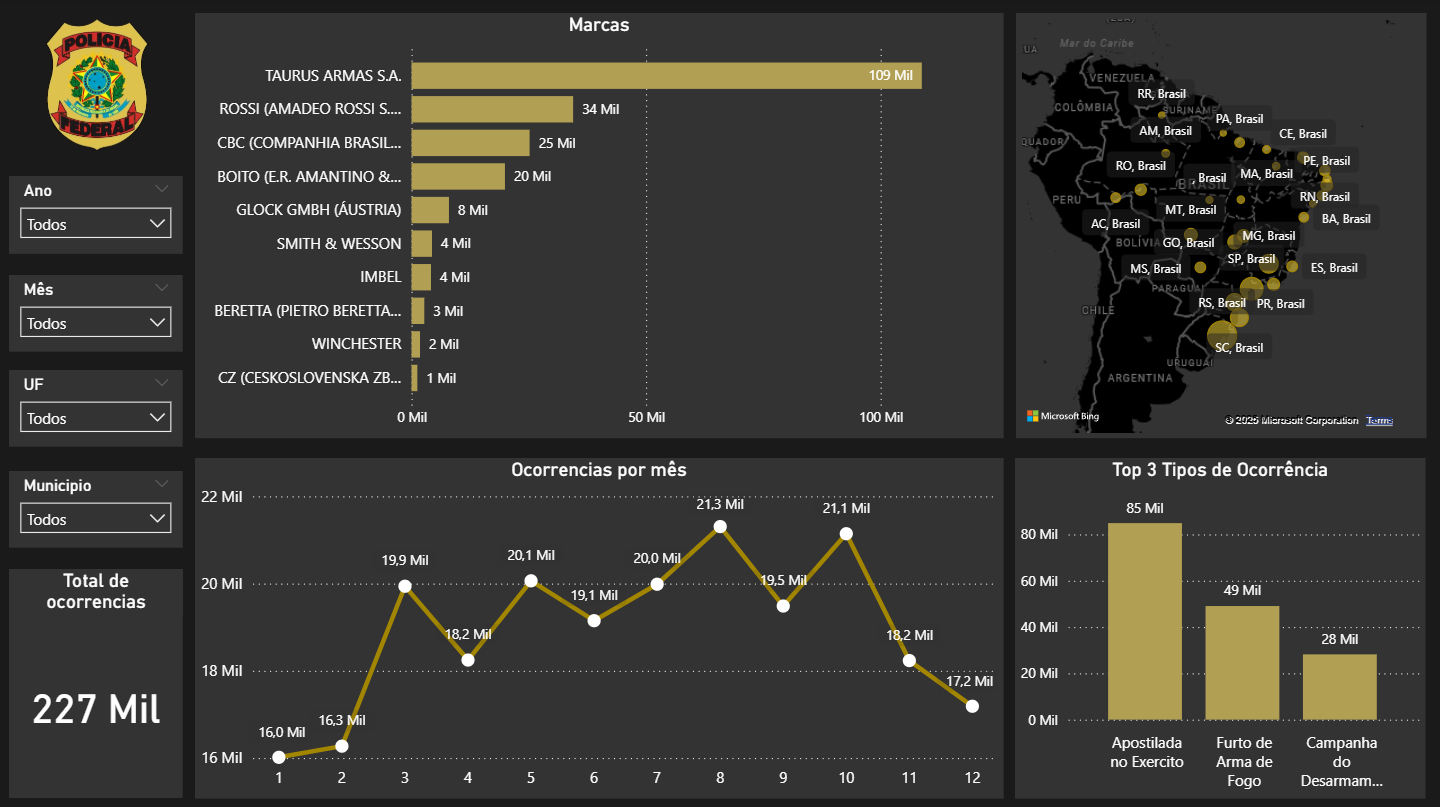

This screenshot's page, from the dashboard's own definition file:
{"tool":"powerbi","page":{"name":"Analise","canvas":[1280,720],"ordinal":0},"visuals":[{"type":"slicer","fields":{"Values":["OCORRENCIAS.MES"]},"box":[10,244.4,154.4,67.8],"z":0},{"type":"image","box":[21.1,12.2,132.2,126.7],"z":1000},{"type":"map","title":"Estados","fields":{"Category":["OCORRENCIAS.LocalizacaoCompleta","OCORRENCIAS.MUNICIPIO"],"Size":["Sum(OCORRENCIAS.TOTAL)"]},"box":[902.4,12.3,364.2,376.6],"z":2000},{"type":"slicer","fields":{"Values":["OCORRENCIAS.ANO"]},"box":[10,156.7,154.4,68.9],"z":3000},{"type":"lineChart","title":"Ocorrencias por mês","fields":{"Category":["OCORRENCIAS.MES"],"Y":["Sum(OCORRENCIAS.TOTAL)"]},"box":[174.4,406.7,716.7,302.2],"z":4000},{"type":"slicer","fields":{"Values":["OCORRENCIAS.UF"]},"box":[10,328.9,154.4,67.8],"z":5000},{"type":"slicer","fields":{"Values":["OCORRENCIAS.MUNICIPIO"]},"box":[10,418.9,154.4,67.8],"z":6000},{"type":"card","title":"Total de ocorrencias","fields":{"Values":["Sum(OCORRENCIAS.TOTAL)"]},"box":[10,505.6,154.4,203.3],"z":8000},{"type":"clusteredColumnChart","title":"Top 3 Tipos de Ocorrência","fields":{"Y":["Sum(OCORRENCIAS.TOTAL)"],"Category":["OCORRENCIAS.TIPO_OCORRENCIA"]},"box":[902,407,364,302],"z":9000},{"type":"clusteredBarChart","title":"Marcas","fields":{"Category":["OCORRENCIAS.MARCA","OCORRENCIAS.ESPECIE_ARMA"],"Y":["Sum(OCORRENCIAS.TOTAL)"]},"box":[174.4,12.2,716.7,376.7],"z":9002}]}

Visuals, with their boxes in screenshot pixels (x1, y1, x2, y2), scaled from the page's 1280x720 canvas onto the 1440x807 screenshot:
slicer - OCORRENCIAS.MES: 11/274/185/350
image: 24/14/172/156
"Estados" map: 1015/14/1425/436
slicer - OCORRENCIAS.ANO: 11/176/185/253
"Ocorrencias por mês" lineChart: 196/456/1002/795
slicer - OCORRENCIAS.UF: 11/369/185/445
slicer - OCORRENCIAS.MUNICIPIO: 11/470/185/546
"Total de ocorrencias" card: 11/567/185/795
"Top 3 Tipos de Ocorrência" clusteredColumnChart: 1015/456/1424/795
"Marcas" clusteredBarChart: 196/14/1002/436
